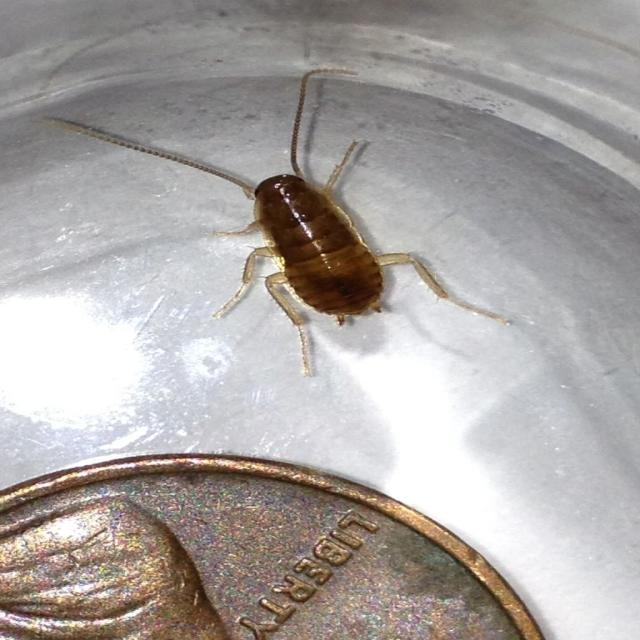Coin: (0, 453, 554, 640)
